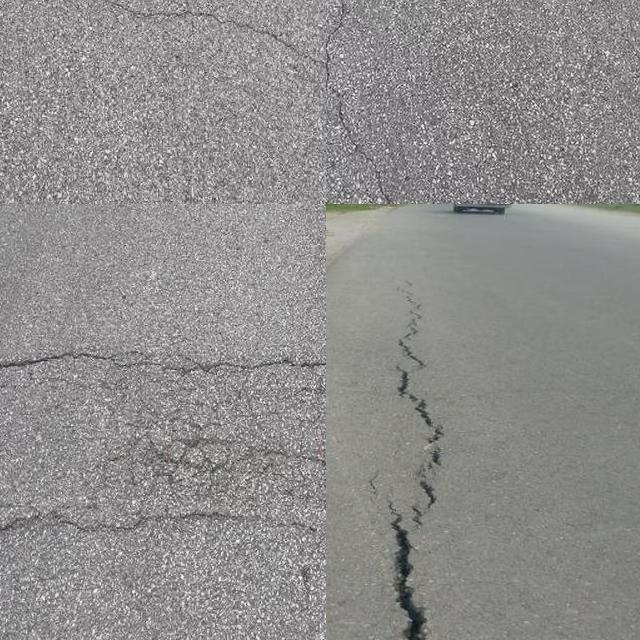Melintang: (74, 0, 326, 84), (0, 338, 326, 390), (0, 499, 326, 538)
Memanjang: (378, 270, 454, 640), (326, 0, 400, 204)
